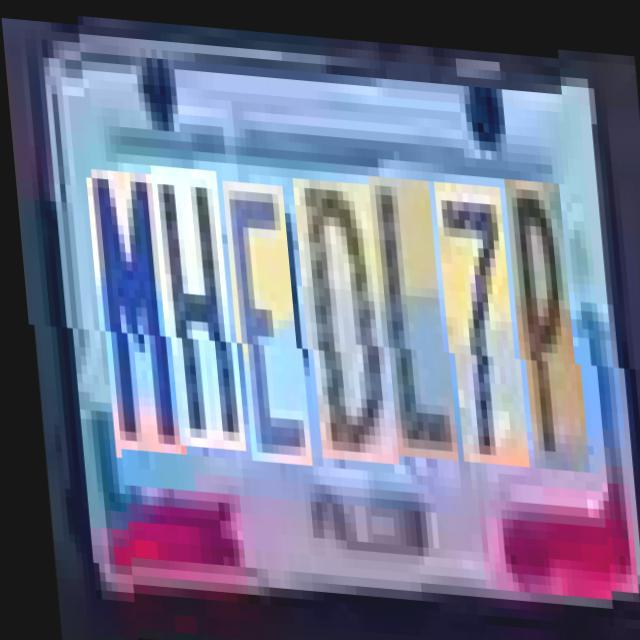7: (437, 174, 522, 458)
D: (295, 173, 391, 458)
E: (224, 177, 304, 461)
H: (153, 163, 238, 447)
L: (371, 170, 451, 453)
M: (88, 168, 178, 452)
P: (507, 170, 582, 462)
